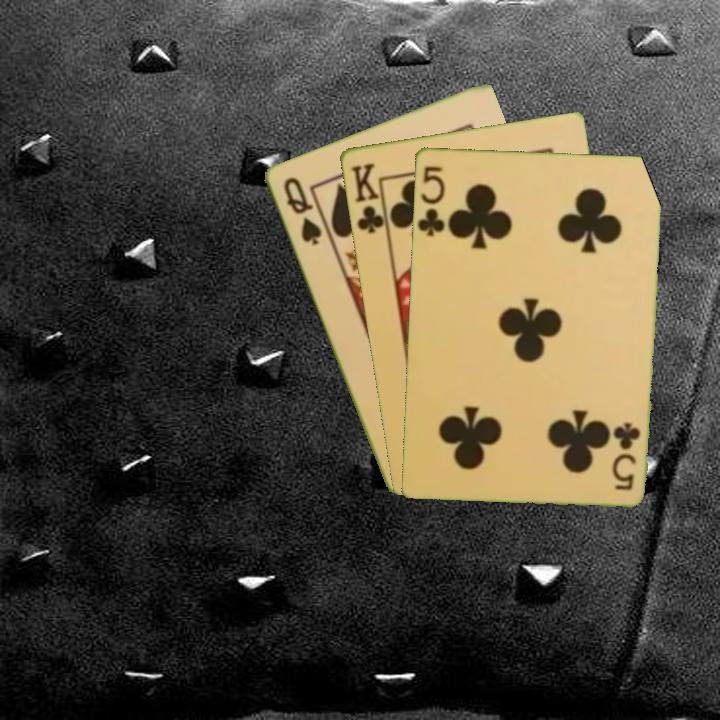5c: (415, 162, 448, 239), (610, 418, 643, 493)
Kc: (347, 159, 390, 237)
Qs: (279, 173, 325, 248)
